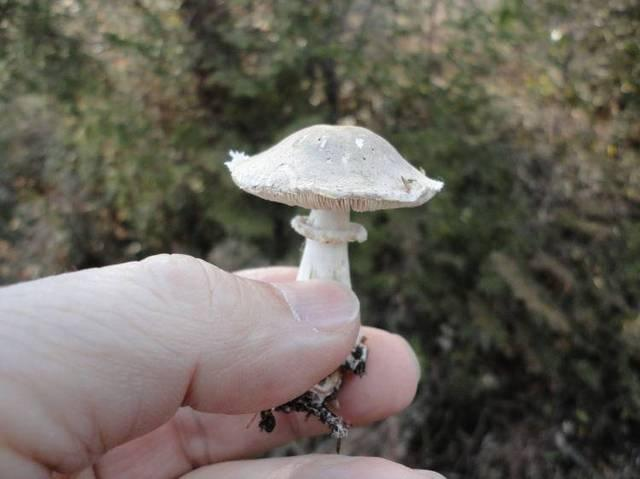Non-edible Mushroom: (223, 122, 444, 438)
